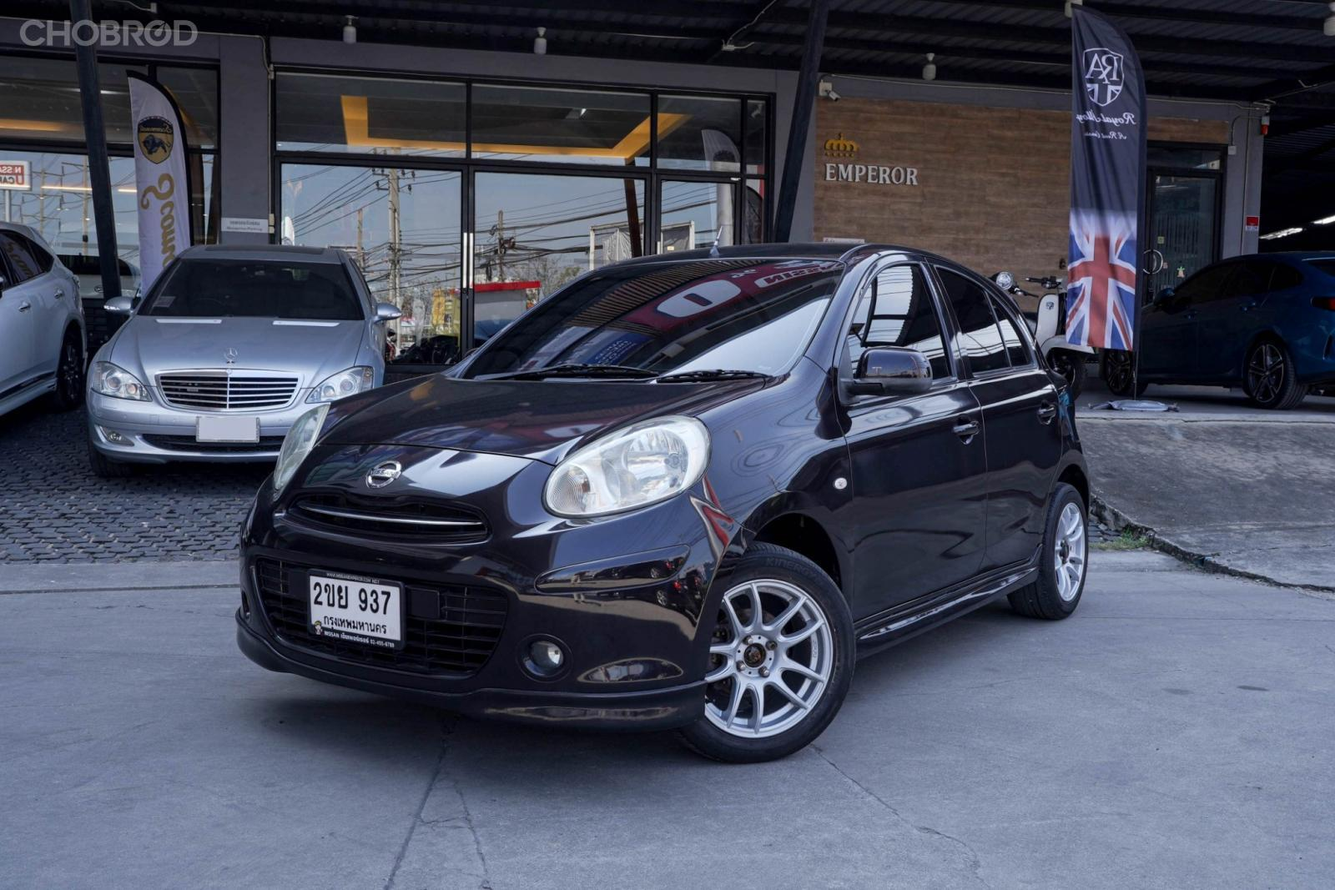license-plate: (296, 572, 417, 661)
